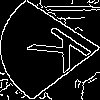K: (25, 25, 100, 81)
